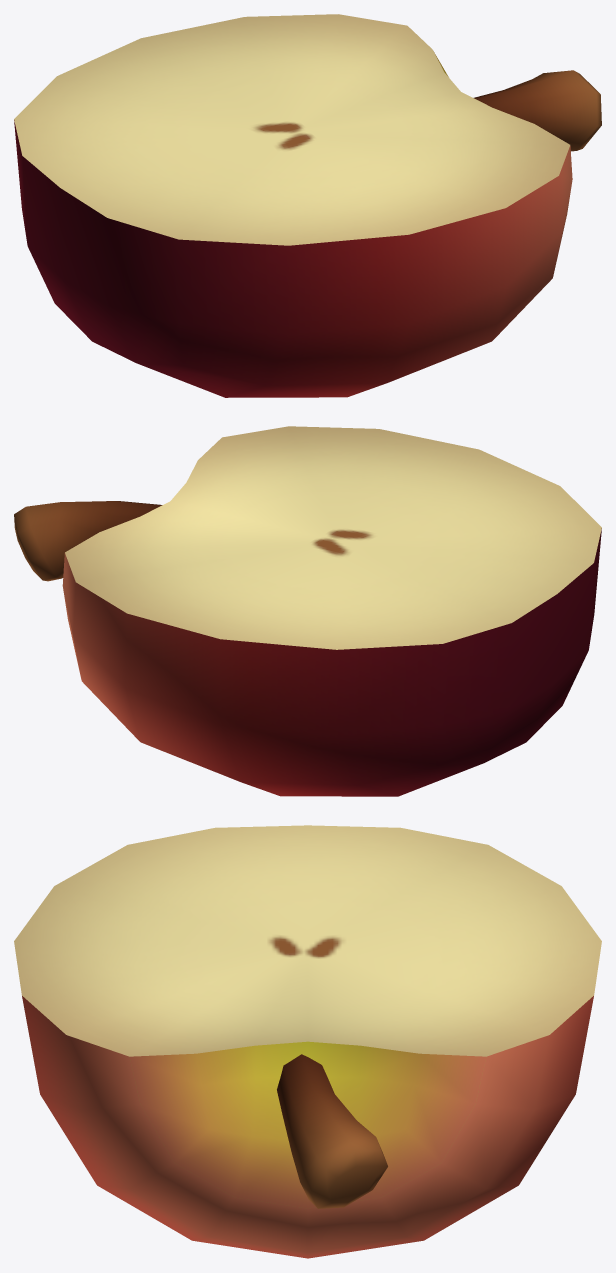
Rendered from Apple_Slice_01.glb.
3 renders of one model, top to bottom at view 1: azimuth 30°, elevation 25°; view 2: azimuth 150°, elevation 25°; view 3: azimuth 270°, elevation 25°, orthographic. The views are drawn at different scales.
Parts seen in each view (by area): view 1: Apple_Slice_01; view 2: Apple_Slice_01; view 3: Apple_Slice_01.
Part boxes in pixels (x1,y1,x2,y2): Apple_Slice_01: (14, 14, 601, 397); Apple_Slice_01: (14, 426, 601, 796); Apple_Slice_01: (14, 825, 601, 1258).
Bounding box in the file's own units: 0.3121 × 0.1314 × 0.2644.
1 material, 1 textured.
